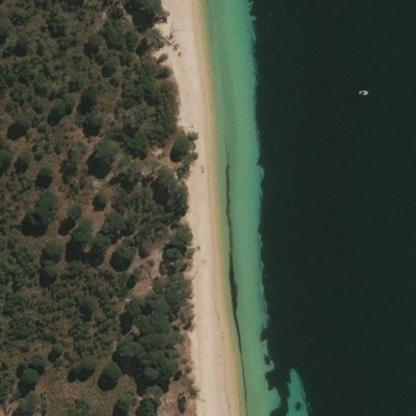ship: (358, 89, 367, 95)
